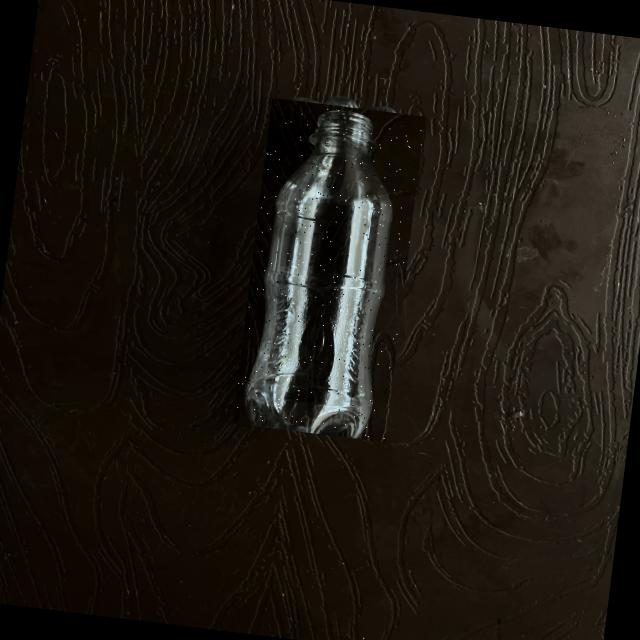PET_ClearBottle: (231, 97, 424, 440)
